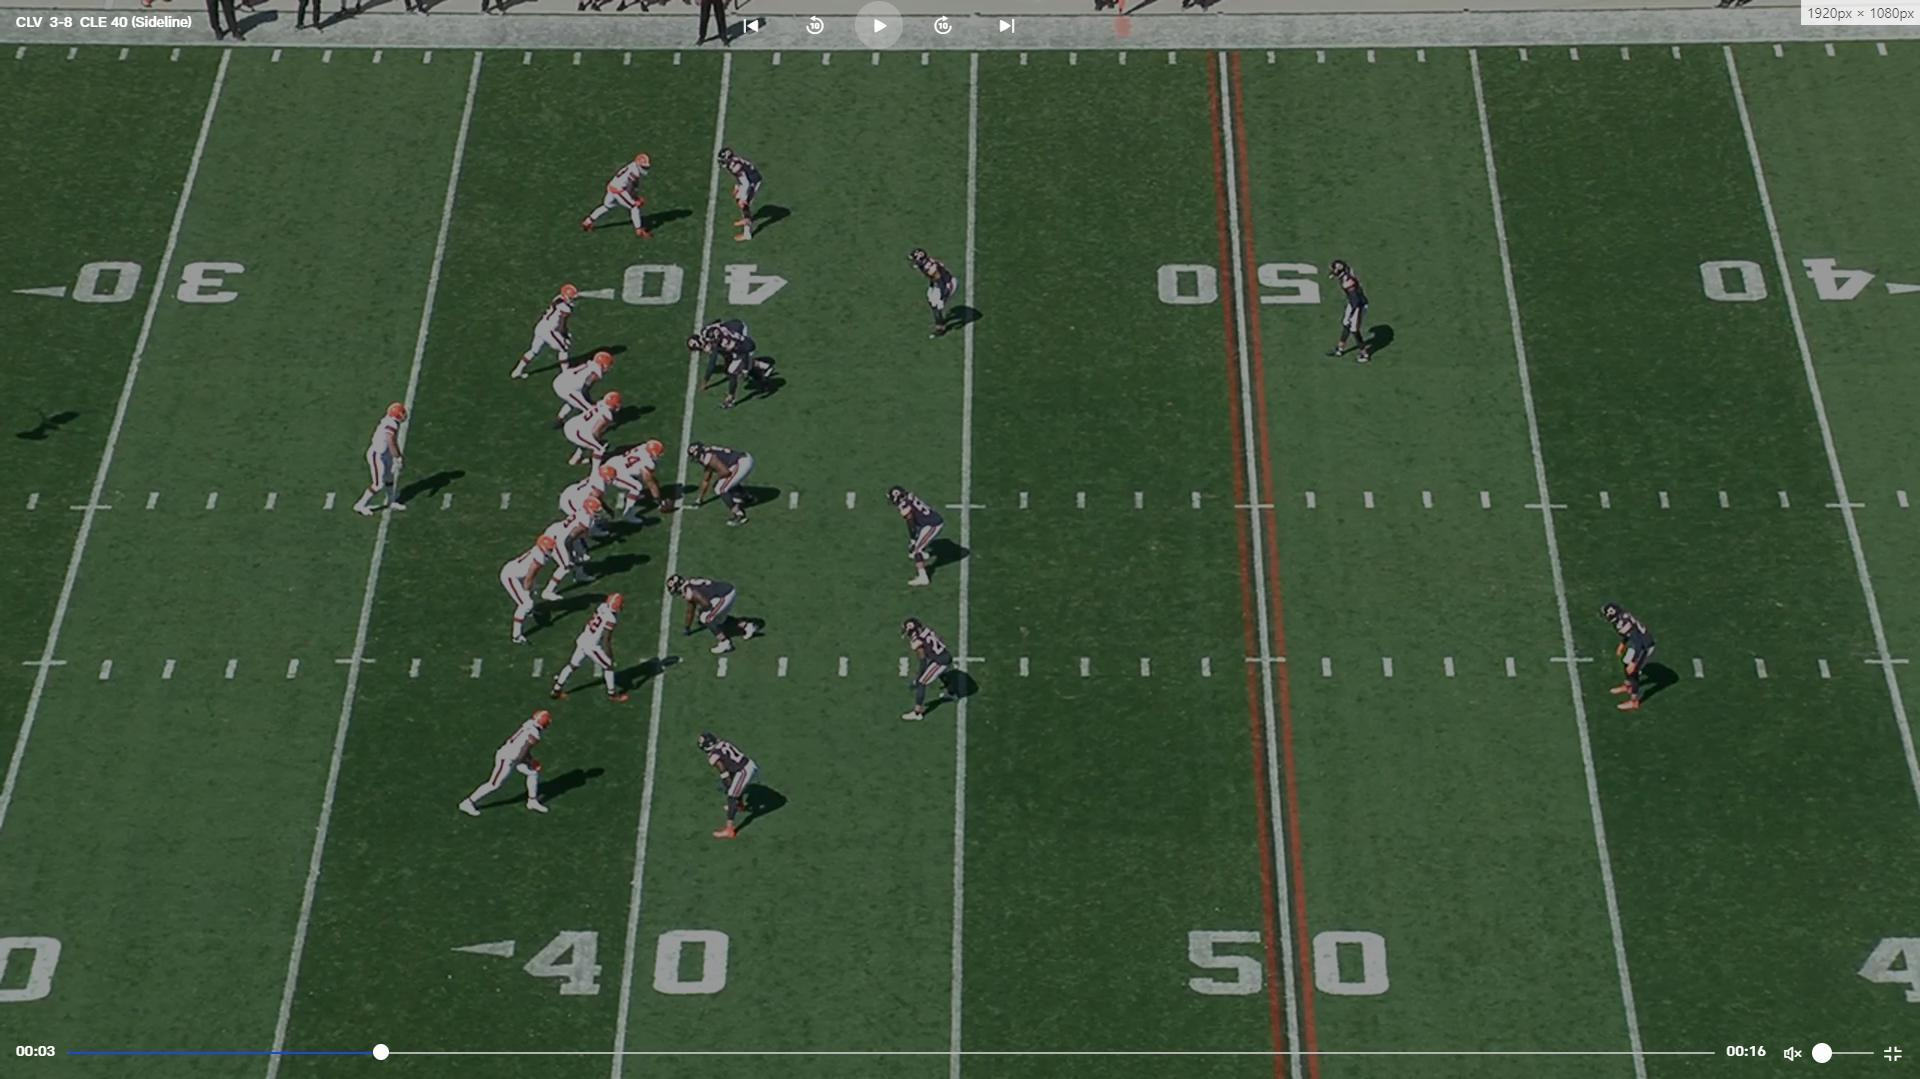player: (461, 709, 564, 823), (553, 593, 635, 708), (668, 569, 768, 653), (692, 731, 763, 847), (572, 148, 657, 242), (353, 401, 419, 522), (510, 284, 585, 387), (498, 530, 564, 647), (1595, 597, 1658, 717), (678, 441, 760, 527), (600, 438, 673, 528), (704, 326, 780, 412), (890, 484, 950, 591), (538, 500, 599, 604), (1328, 253, 1383, 368), (900, 615, 956, 726), (549, 346, 615, 434), (553, 466, 615, 555), (561, 391, 624, 477), (718, 145, 769, 249), (912, 247, 967, 341), (692, 313, 750, 359)
ref: (694, 0, 748, 48)
